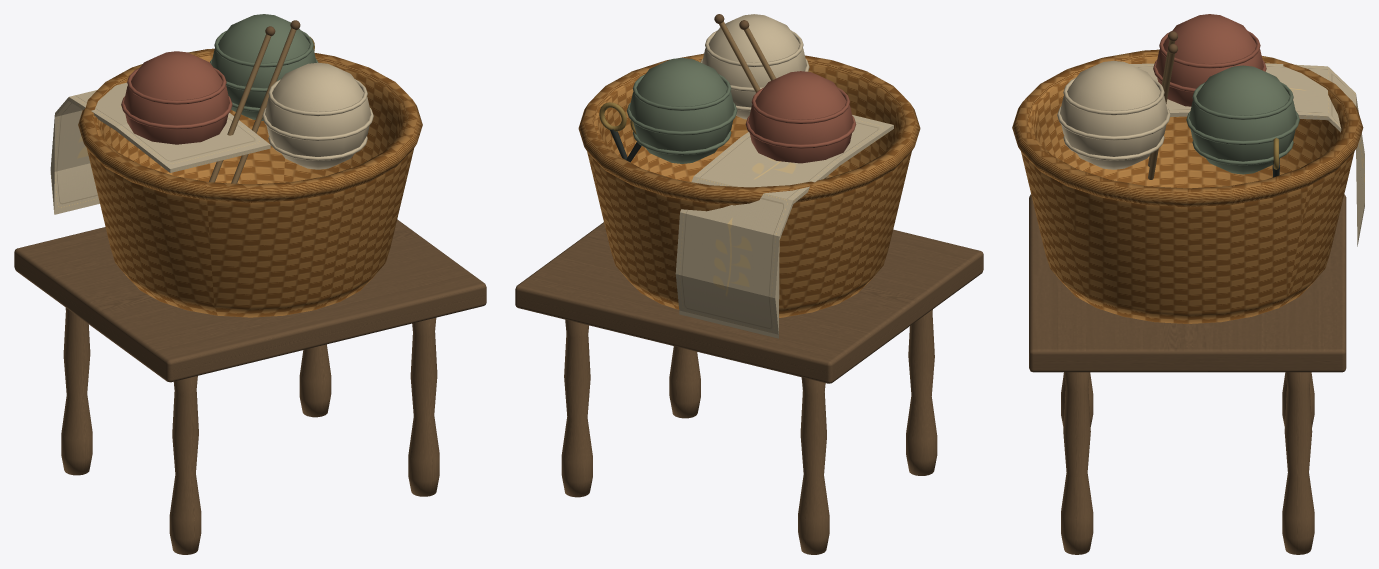
File: costurero.glb
The picture shows the model from 3 angles, left to right: view 1: azimuth 30°, elevation 25°; view 2: azimuth 150°, elevation 25°; view 3: azimuth 270°, elevation 25°; orthographic projection. The views are drawn at different scales.
Visible parts, largest first — view 1: costurero; view 2: costurero; view 3: costurero.
Boxes of the visible parts, x1,y1,x2,y2 form: costurero: (14, 14, 486, 554); costurero: (515, 14, 983, 554); costurero: (1012, 14, 1364, 554).
Size of the model in its own units: 0.51 by 0.695 by 0.478.
1 material, 1 textured.
